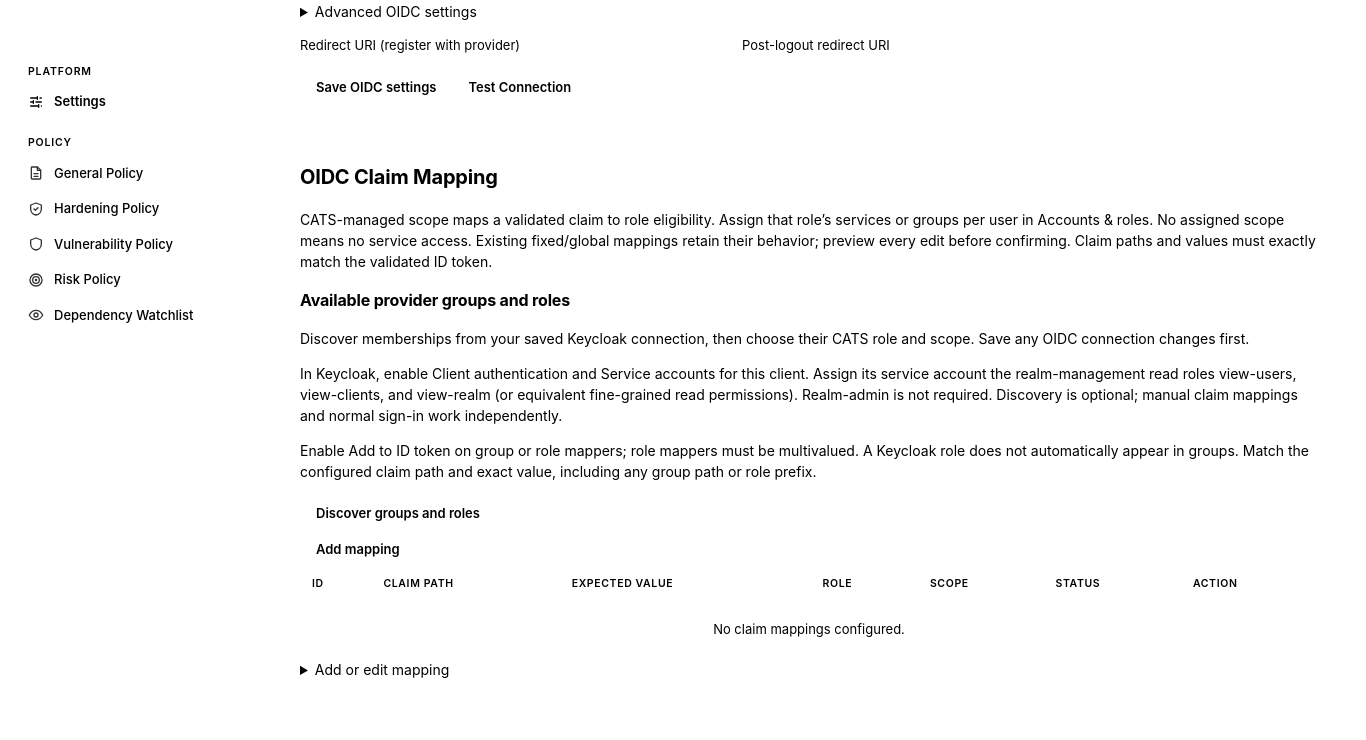
Test: shows setup failures and allows retry without retaining stale candidates
(page scrolled)
Click the button "Discover groups and roles": (398, 514) [300,496,496,532]
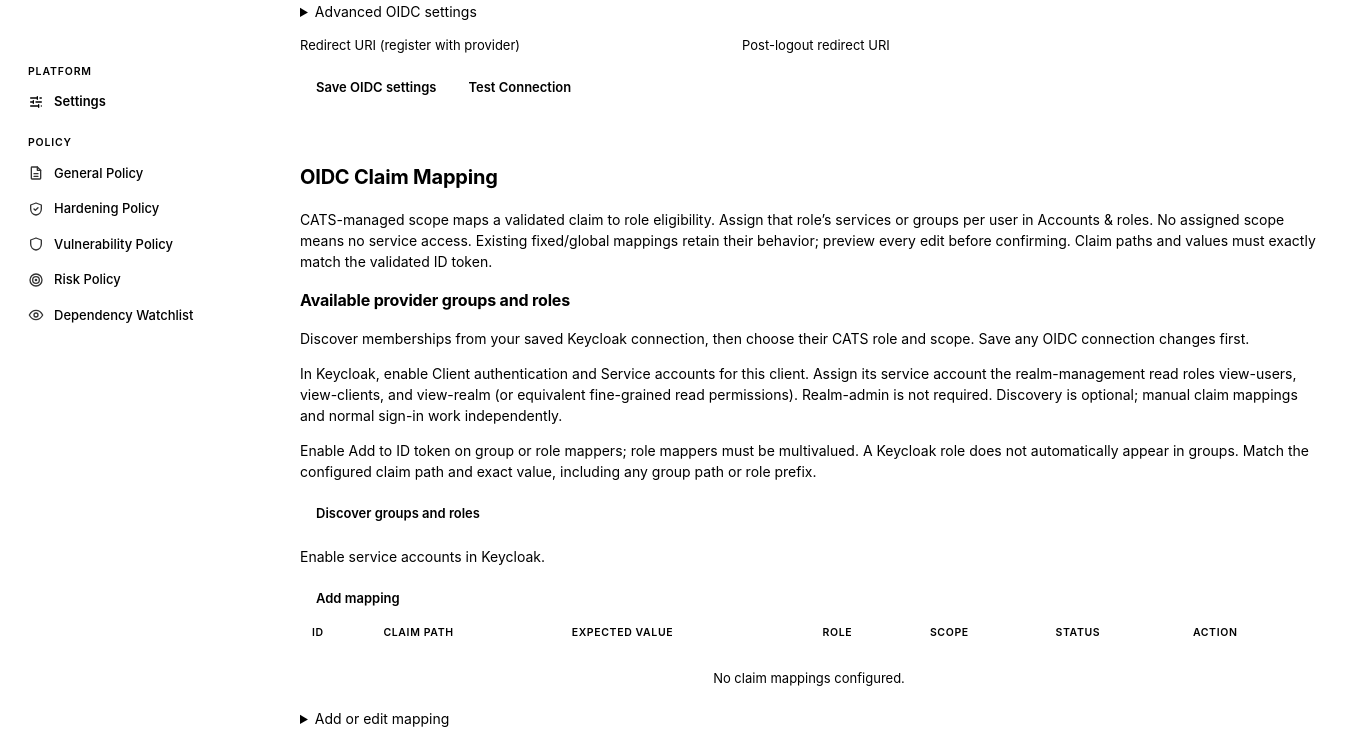
Check: the message reads "Enable service accounts in Keycloak.", box [300,548,545,565]
Click the button "Discover groups and roles": (398, 514) [300,496,496,532]
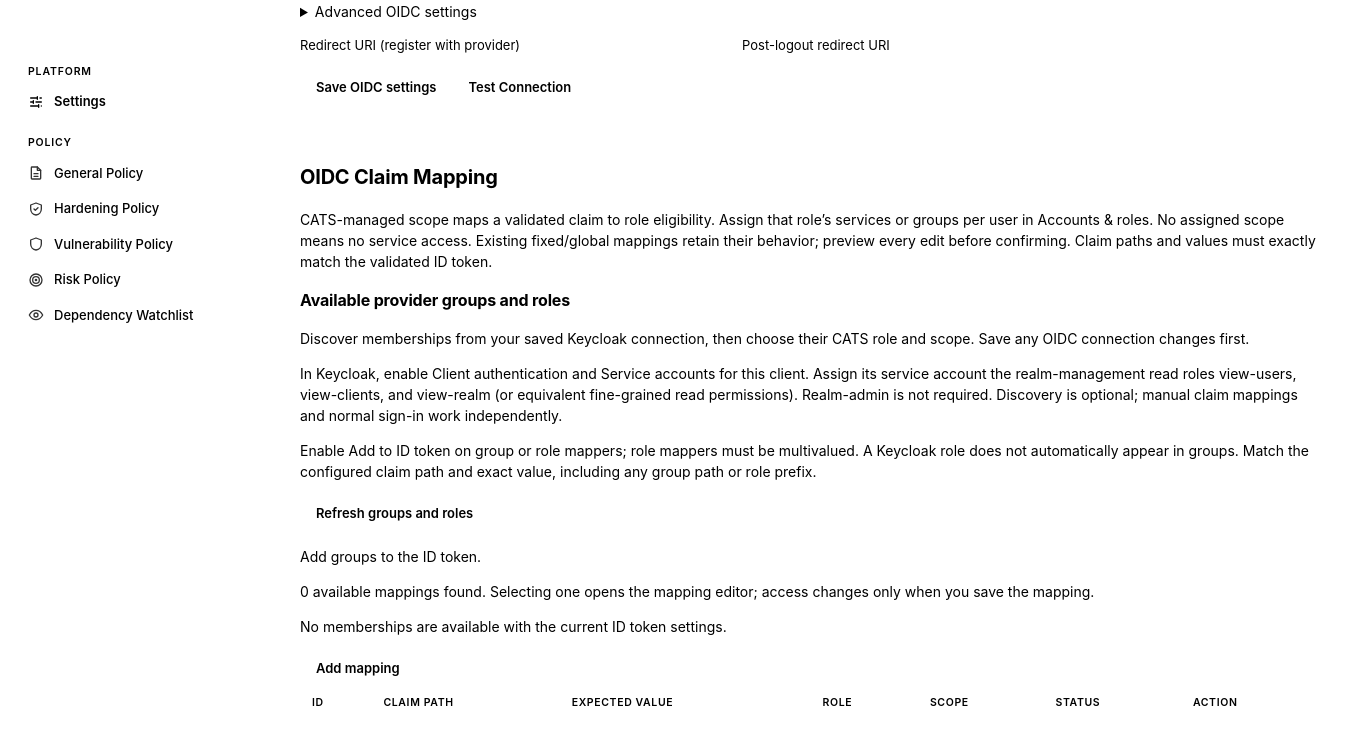
Check: the text "Add groups to the ID token." is shown, box [300,548,481,565]
